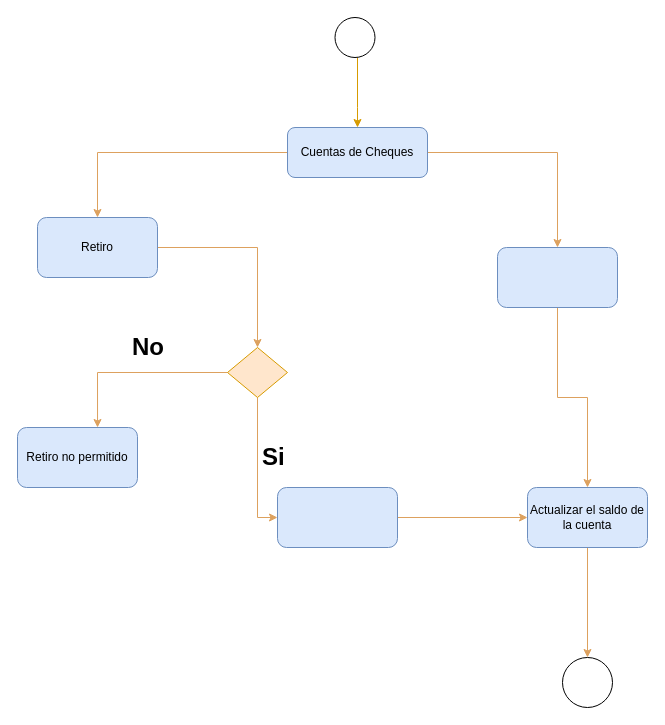
This 665x725 diagram has some shape labels left out. The shapes that lost their labels are listed below. From the top down, each one's box as (x1, y1, x2, y2) in pixels, then its label:
(496, 246, 618, 308): Deposita
(276, 486, 398, 548): Retirar Cantidad
